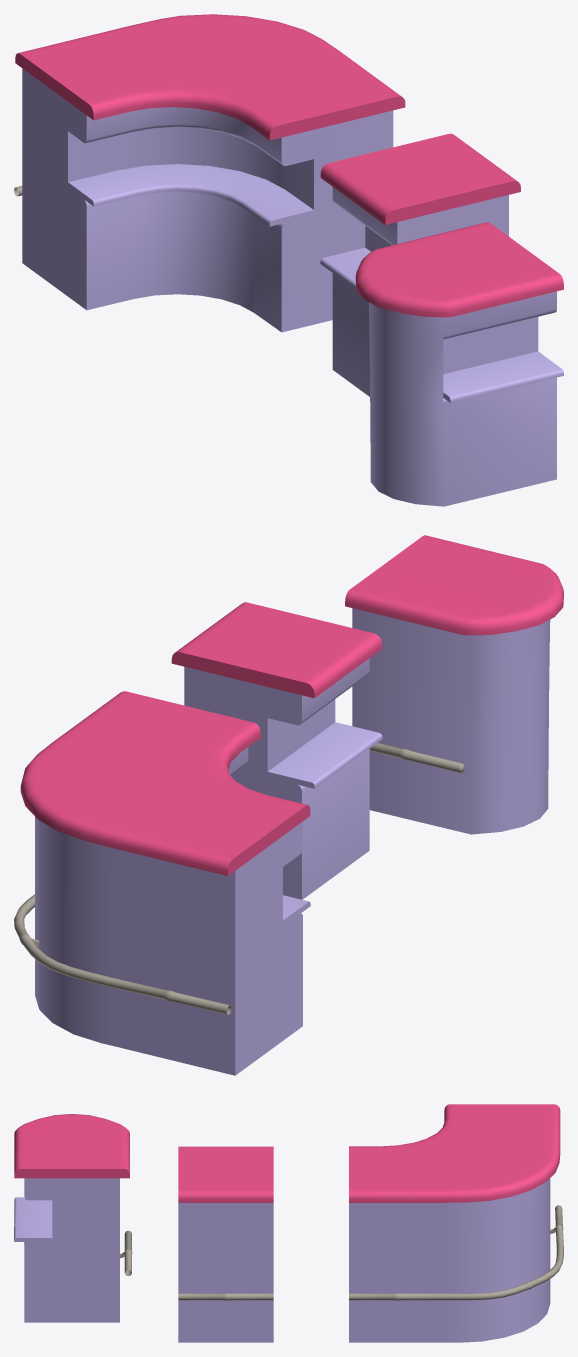
Rendered from bar_table_set.fbx.
3 views of the same model, one above another, from view 1: azimuth 30°, elevation 25°; view 2: azimuth 150°, elevation 25°; view 3: azimuth 270°, elevation 25° (orthographic). The views are drawn at different scales.
Visible parts, largest first — view 1: Counter_Corner, Counter_Ending, Counter_Block; view 2: Counter_Corner, Counter_Ending, Counter_Block; view 3: Counter_Corner, Counter_Ending, Counter_Block.
Part boxes in pixels (box(x1,y1,x2,y2)): Counter_Corner: box(14, 14, 405, 332); Counter_Ending: box(355, 222, 563, 506); Counter_Block: box(320, 133, 520, 396); Counter_Corner: box(14, 691, 310, 1075); Counter_Ending: box(345, 535, 563, 834); Counter_Block: box(171, 602, 382, 899); Counter_Corner: box(349, 1104, 563, 1342); Counter_Ending: box(14, 1114, 132, 1322); Counter_Block: box(178, 1146, 273, 1342).
Size of the model in its own units: 17.88 by 14.19 by 46.07.
